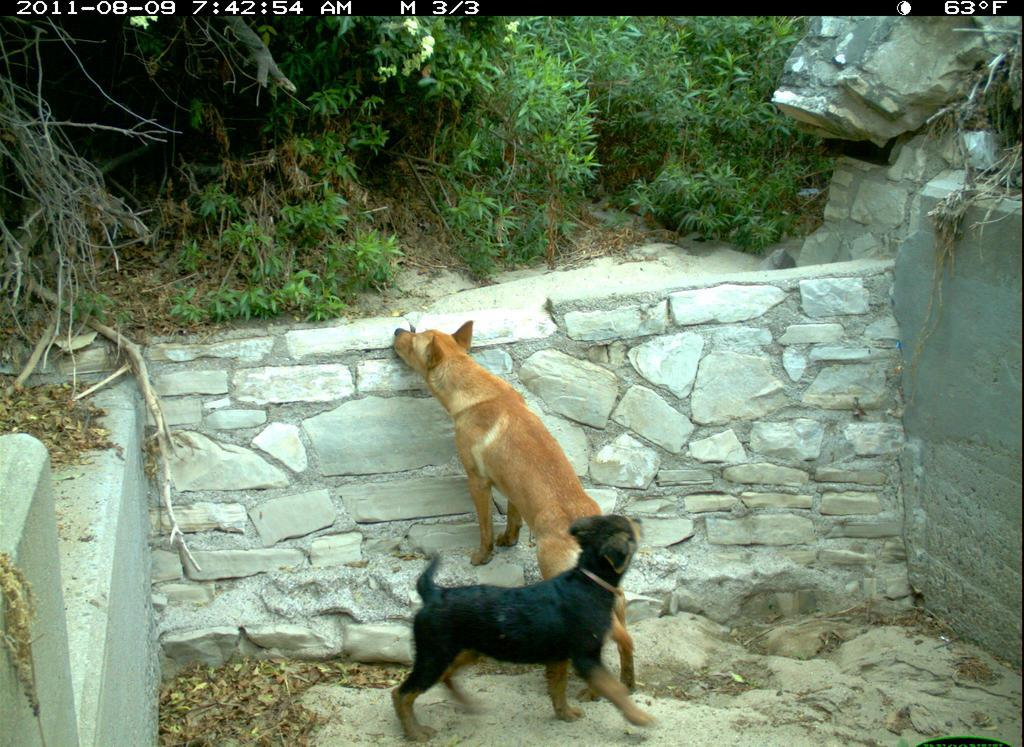dog: (365, 310, 661, 687), (383, 504, 691, 741)
